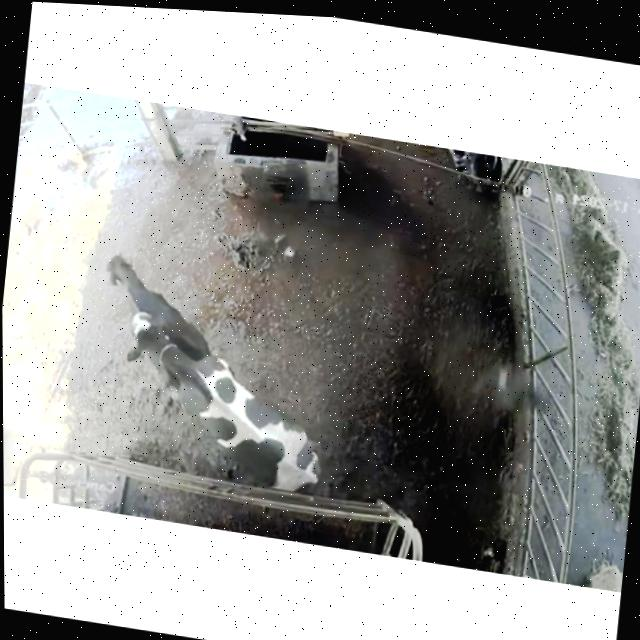ride: (103, 306, 361, 504)
stand: (93, 236, 222, 359)
